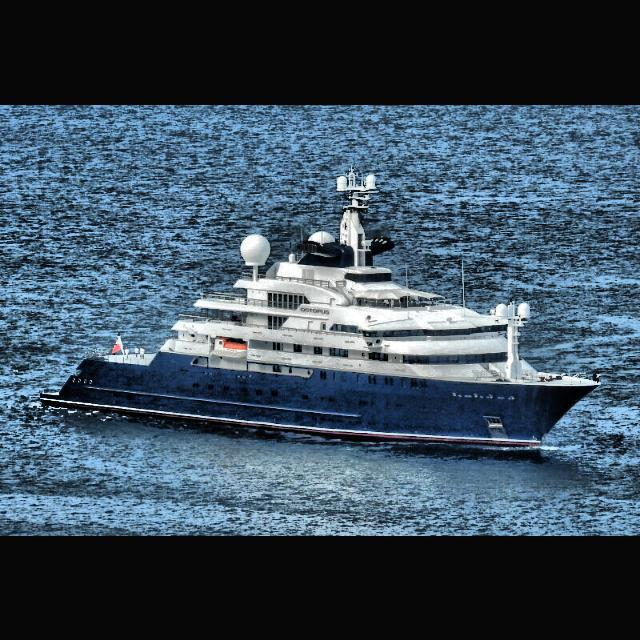yacht: (38, 162, 604, 450)
